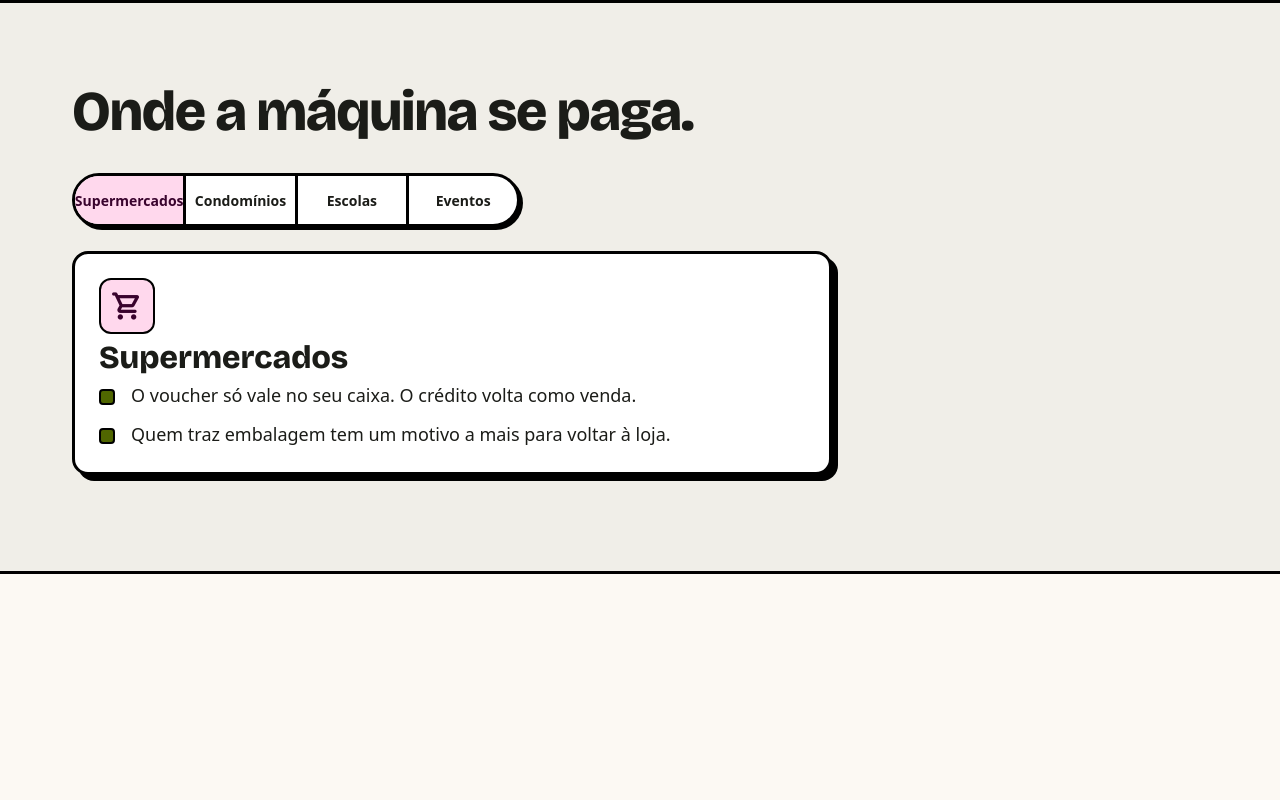
Test: Para quem › com menos animação, troca sem GSAP
The image size is (1280, 800).
Click the tab "Eventos". click: (462, 200)
box: 406,176 -> 518,224
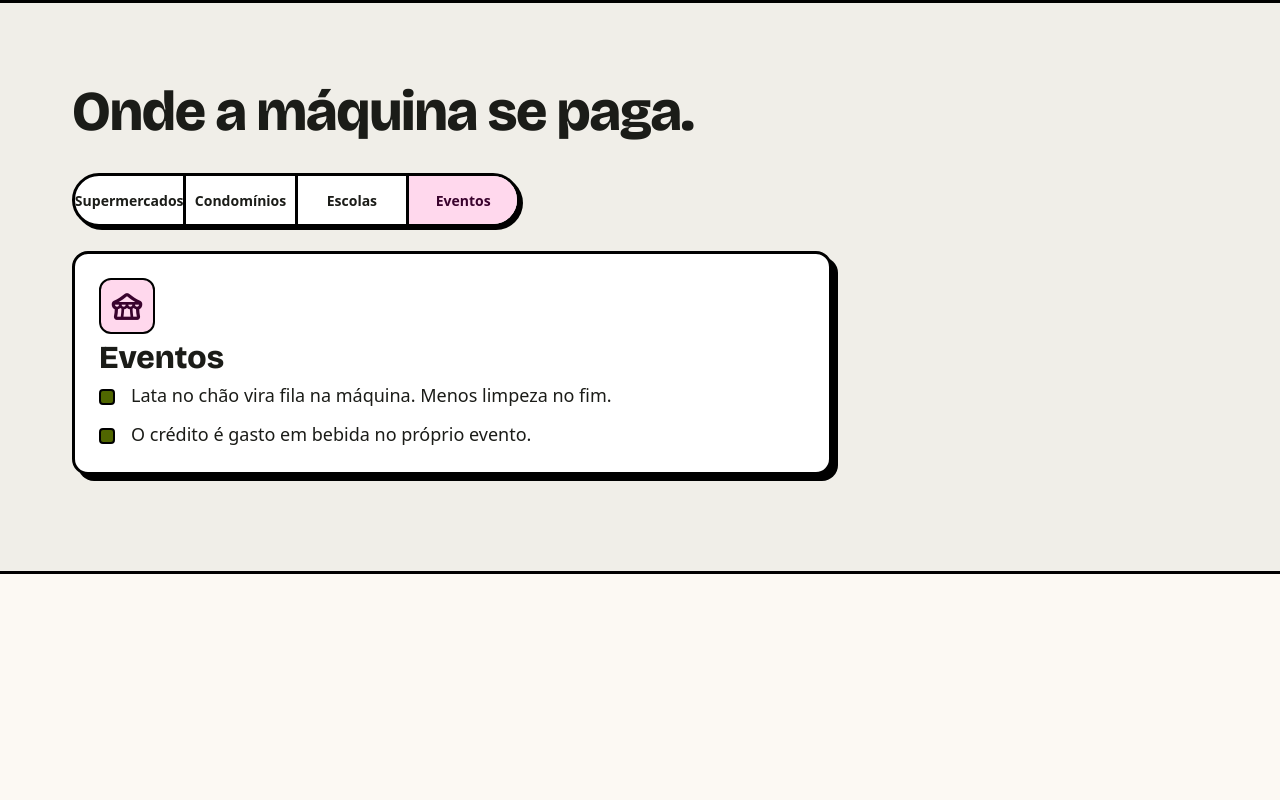
Now the panel shows "Eventos", box 99,338 -> 224,377
